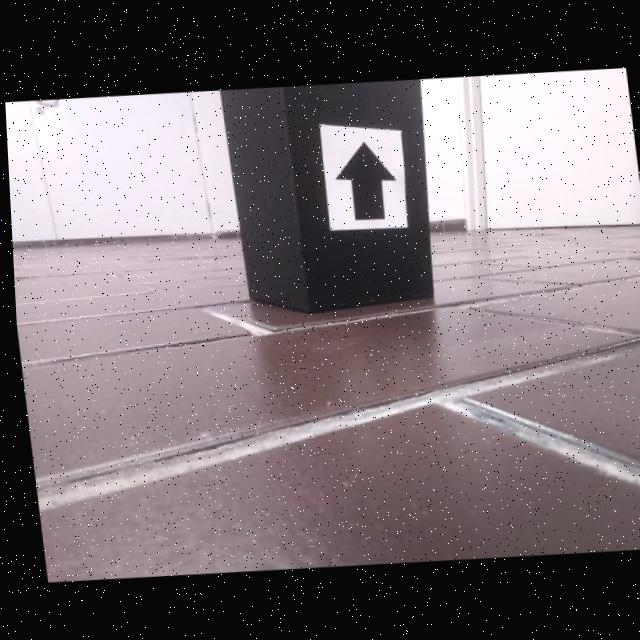UP: (333, 139, 395, 219)
